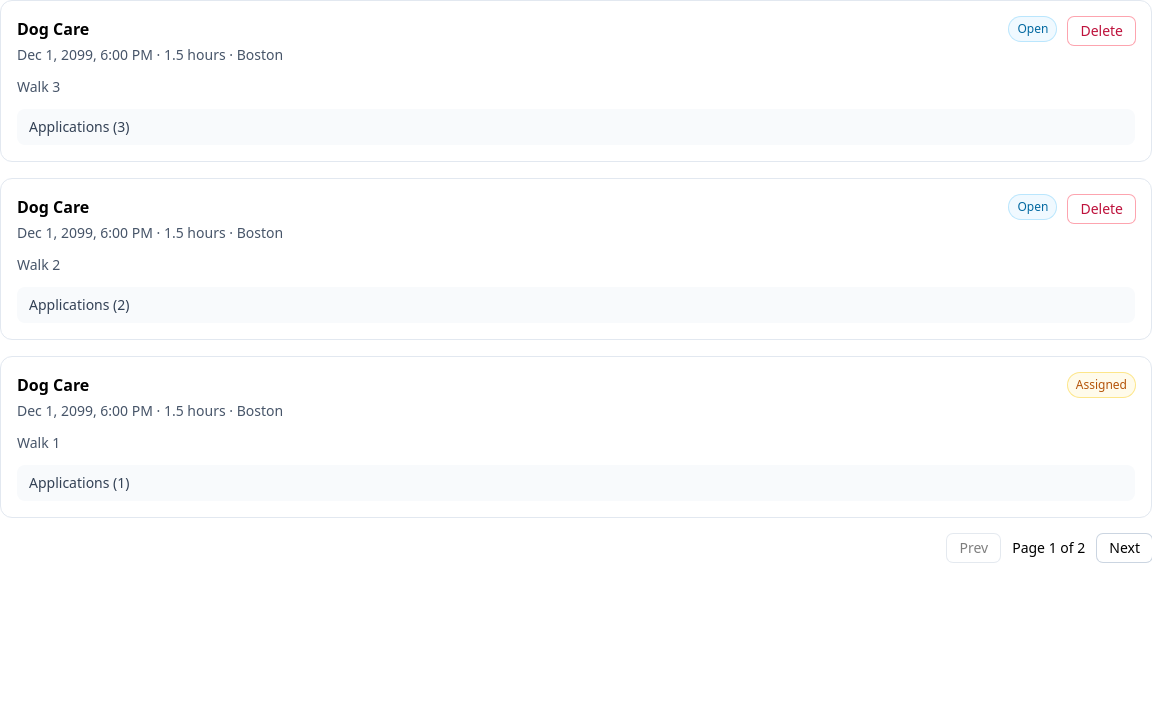
Test: sorts newest first and paginates three tasks at a time
Expected: the text "Walk 3" is shown, [17, 77, 60, 96]
Expected: the text "Walk 0" is not shown
Click the button "Next" at [1125, 548], box [1097, 534, 1152, 562]
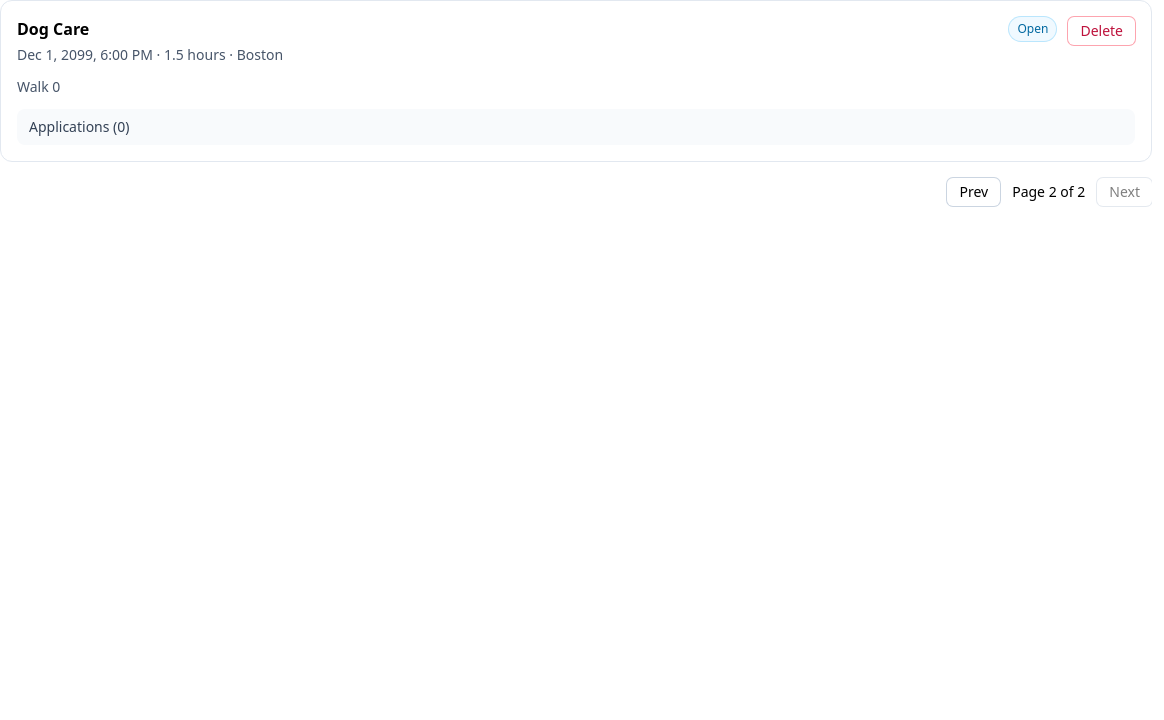
Result: the text "Walk 0" is shown at [17, 77, 60, 96]
Result: the button "Next" is disabled at [1097, 178, 1152, 206]
